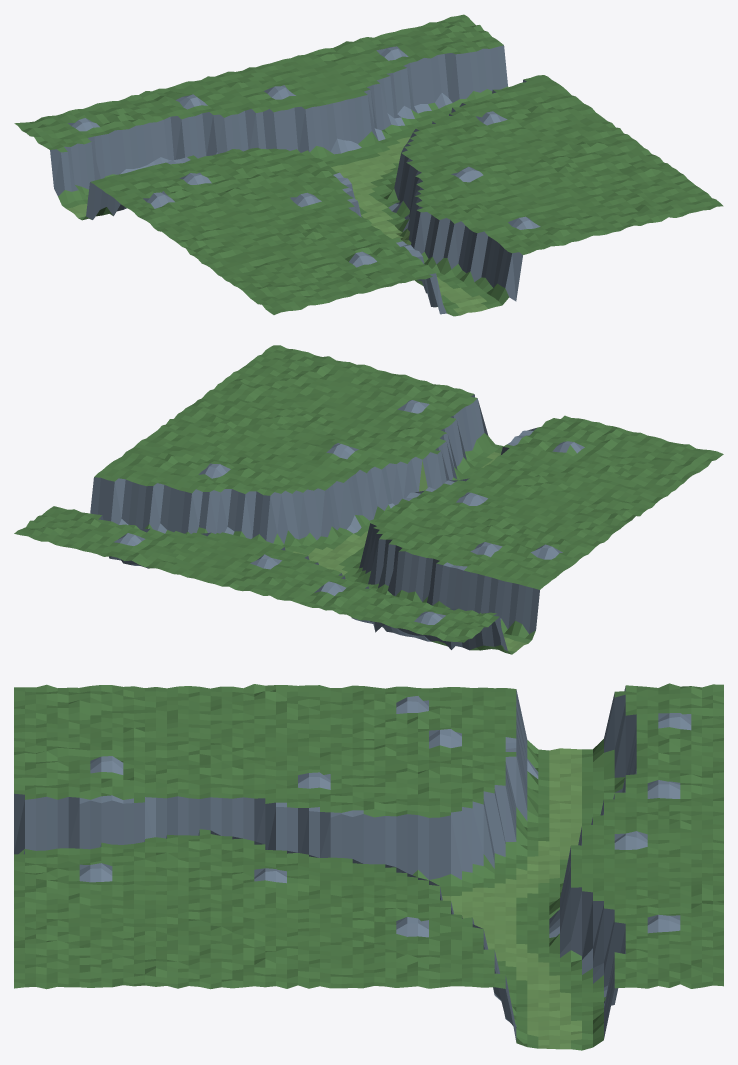
The model's file is stage2.fbx.
3 views of the same model, one above another, from view 1: azimuth 30°, elevation 25°; view 2: azimuth 150°, elevation 25°; view 3: azimuth 270°, elevation 25° (orthographic). The views are drawn at different scales.
Parts seen in each view (by area): view 1: stage2; view 2: stage2; view 3: stage2.
Part boxes in pixels (box(x1,y1,x2,y2)): stage2: box(14, 14, 723, 316); stage2: box(14, 345, 723, 654); stage2: box(14, 683, 723, 1050).
Bounding box in the file's own units: 8000 × 925 × 8000.
